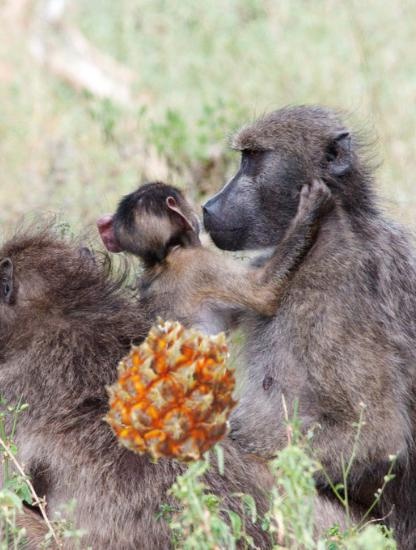Pineapple: (99, 318, 248, 467)
